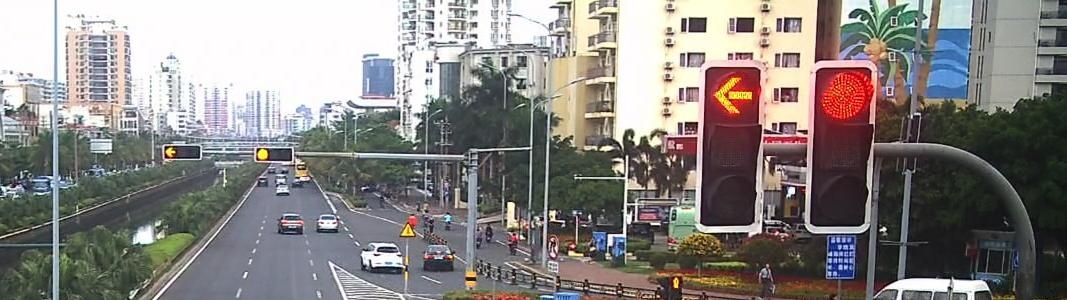red: (818, 68, 871, 124), (255, 147, 272, 161)
redleft: (709, 72, 757, 119), (166, 148, 177, 161)
redpeople: (669, 276, 682, 291)
